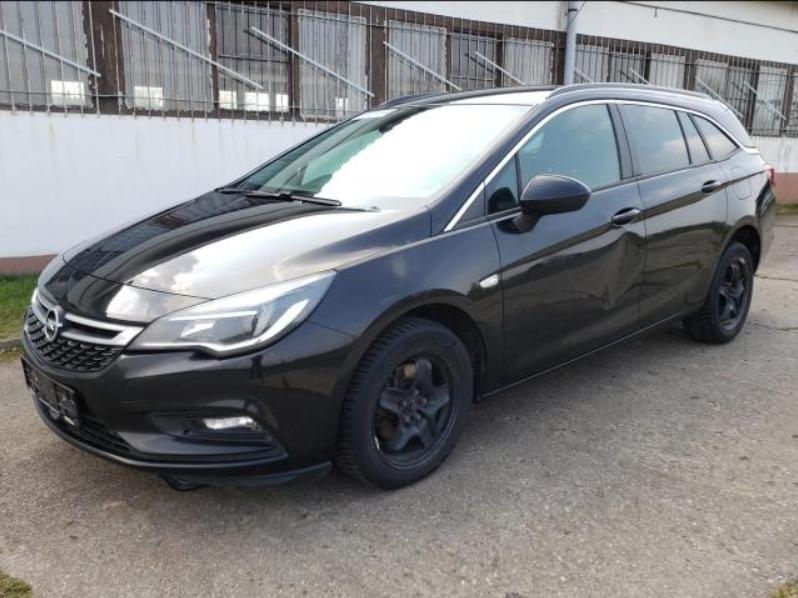Dent: (601, 231, 647, 309), (528, 252, 583, 279)
Missing part: (21, 359, 75, 424)
